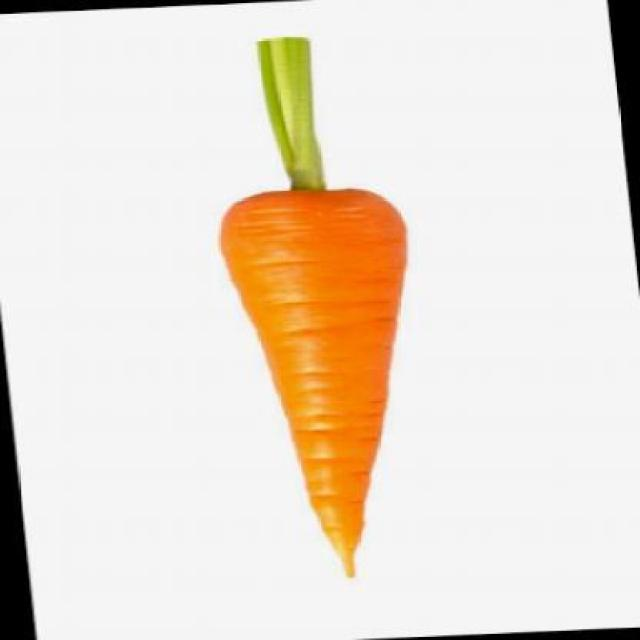carrot: (212, 184, 446, 585)
